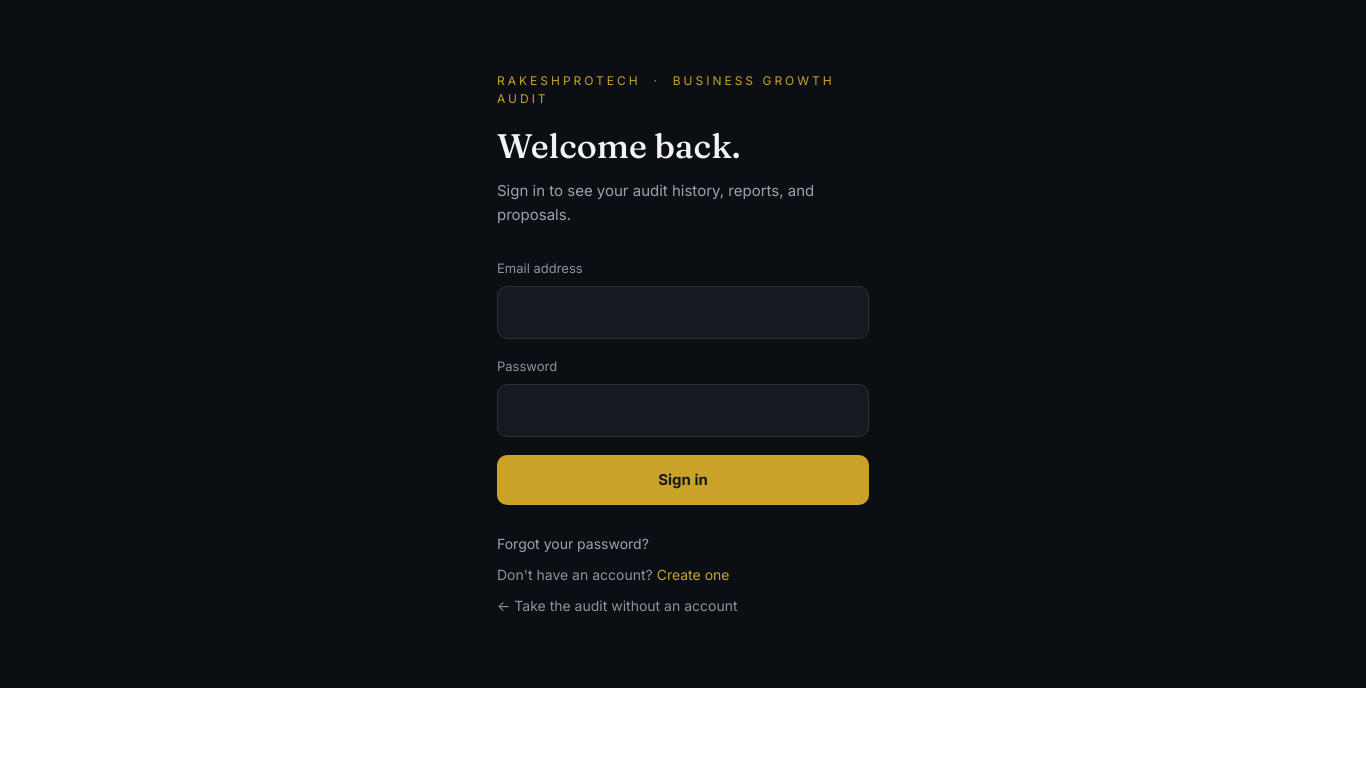
Test: AuthForm — login › translates Supabase's credential error into plain language
The image size is (1366, 768).
Type "a@b.com" into the field labelled "Email address" at (683, 313), box [497, 286, 869, 339]
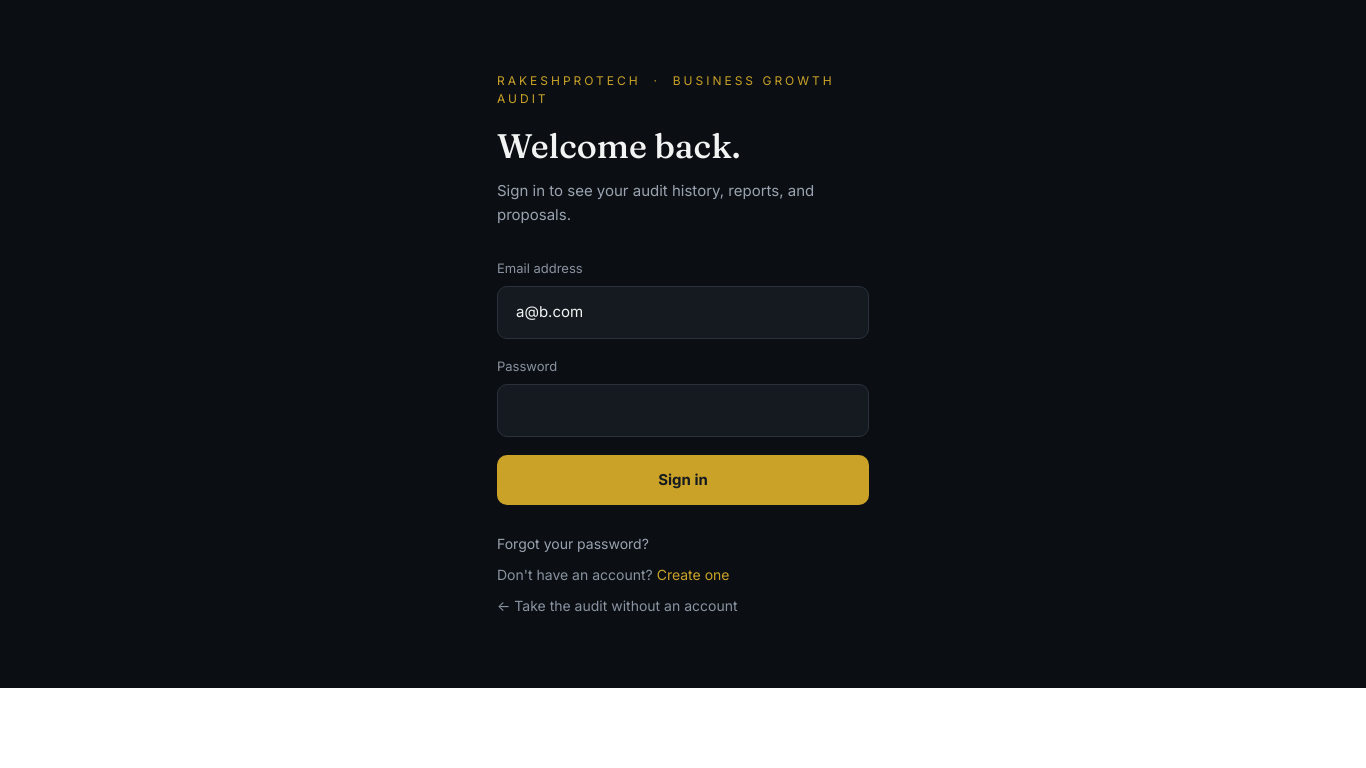
Type "wrongpass" into the password field labelled "Password" at (683, 411), box [497, 384, 869, 437]
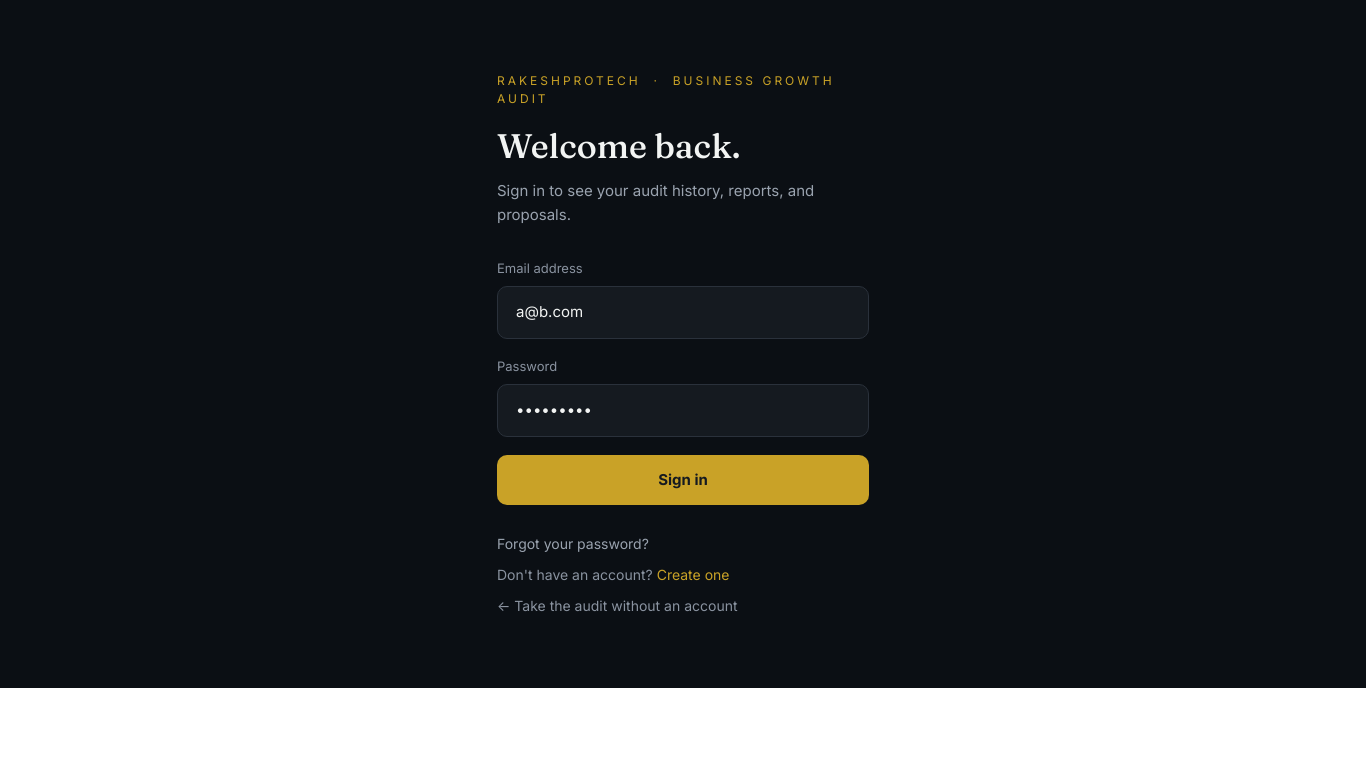
Click the button "Sign in" at (683, 480), box [497, 455, 869, 505]
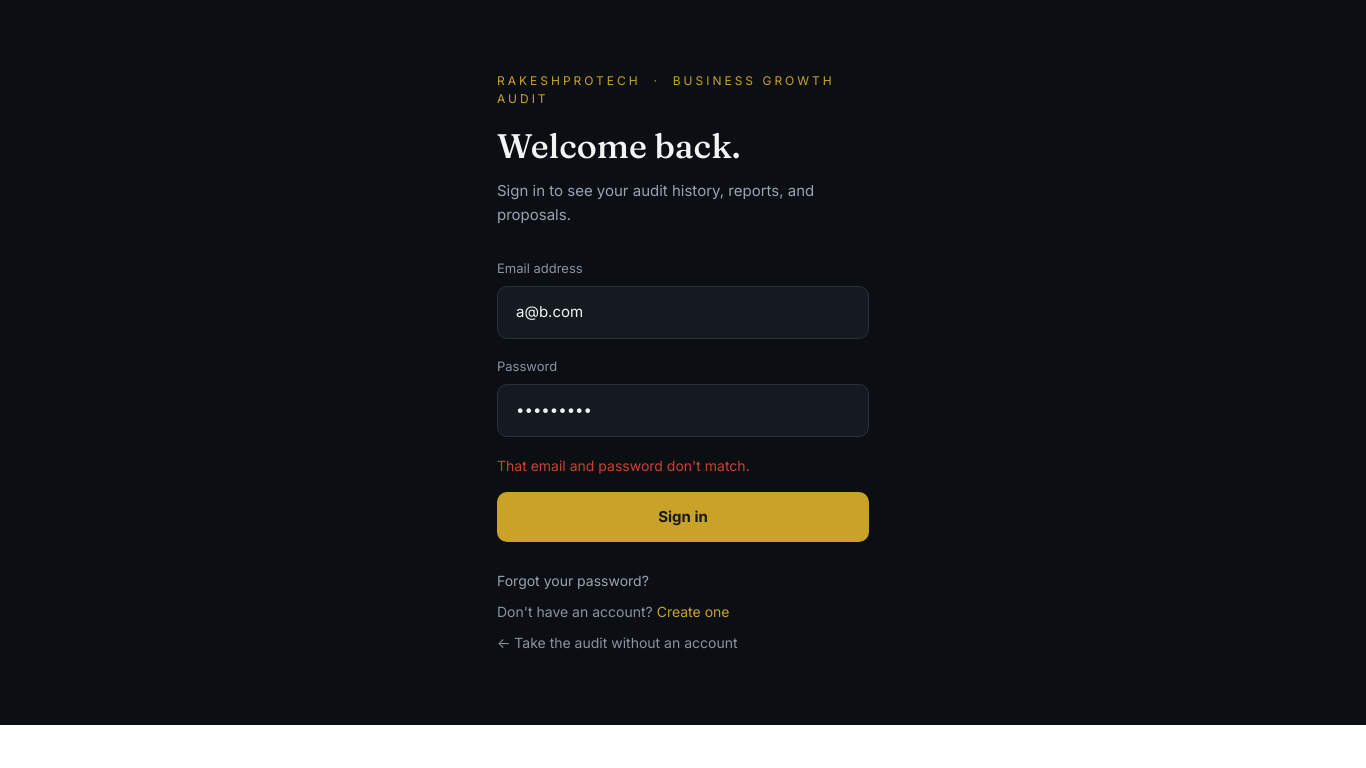
Check: the message reads "That email and password don't match.", box [497, 457, 750, 474]
